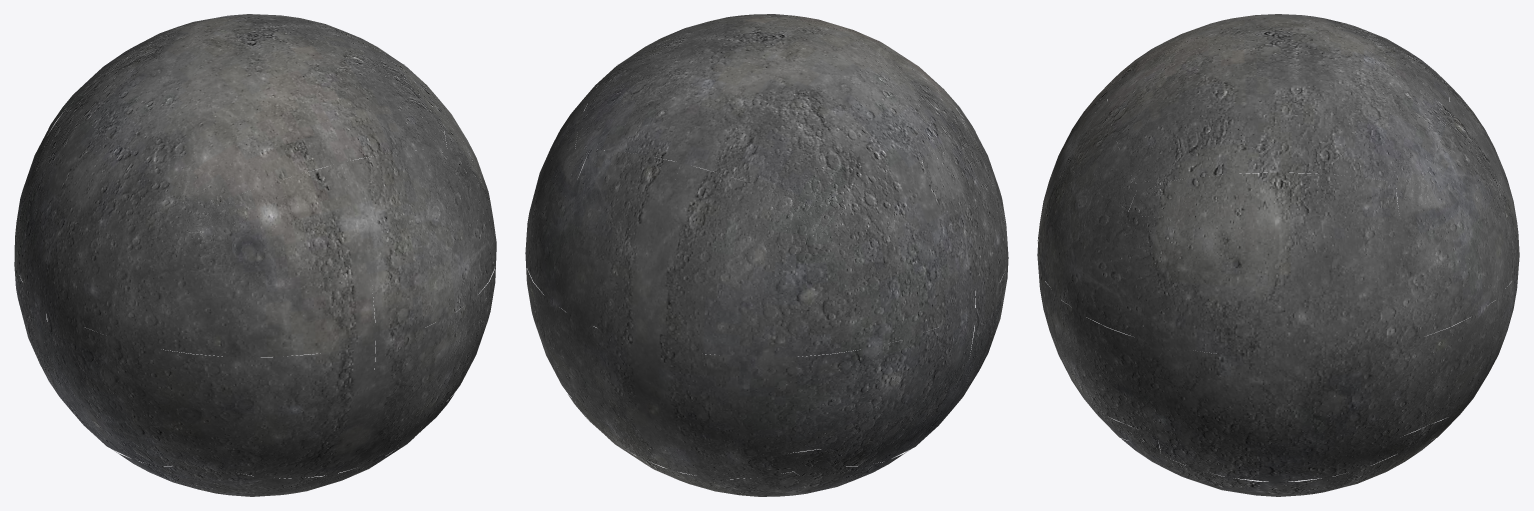
File: mercuryGlb.glb
3 views of the same model, side by side, from view 1: azimuth 30°, elevation 25°; view 2: azimuth 150°, elevation 25°; view 3: azimuth 270°, elevation 25° (orthographic).
Visible parts, largest first — view 1: Cube.008; view 2: Cube.008; view 3: Cube.008.
Part boxes in pixels (x1,y1,x2,y2): Cube.008: [14, 14, 496, 496]; Cube.008: [525, 14, 1008, 496]; Cube.008: [1037, 14, 1519, 496].
Size of the model in its own units: 6.35 by 6.35 by 6.35.
1 material, 1 textured.
